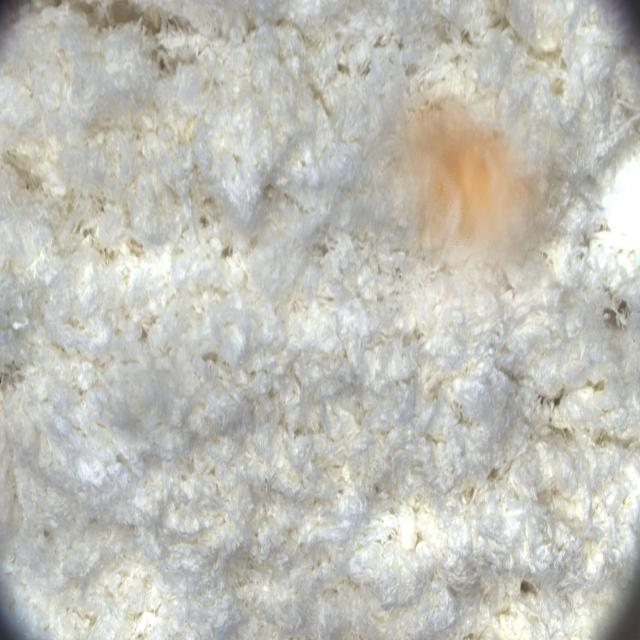dust: (361, 79, 571, 343)
